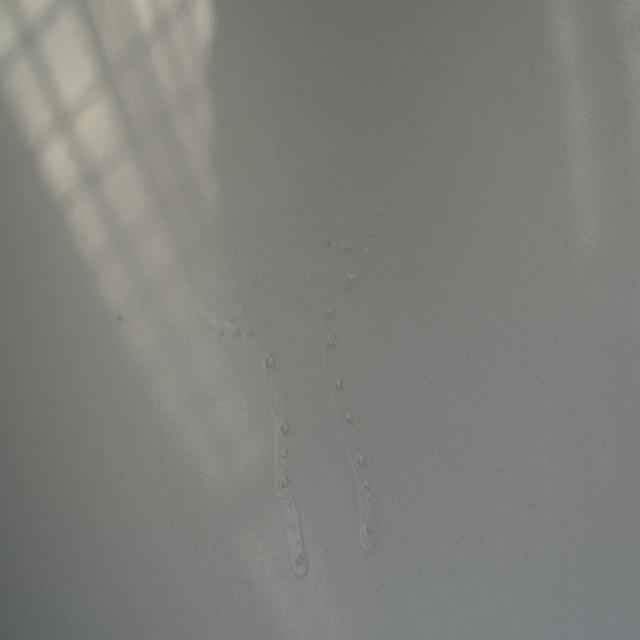dirt: (118, 314, 124, 327), (325, 238, 333, 246)
runs: (189, 199, 386, 584)
